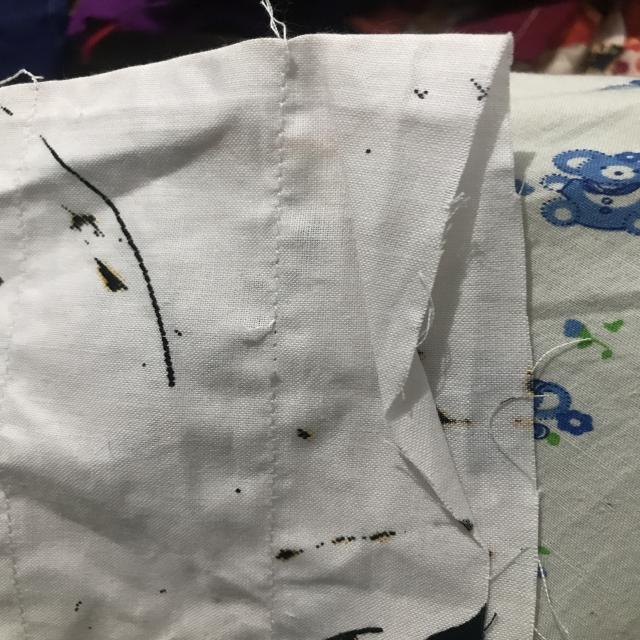broken: (242, 314, 311, 400)
